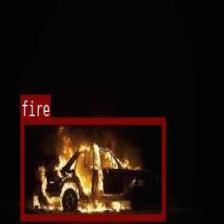fire: (20, 116, 165, 220)
